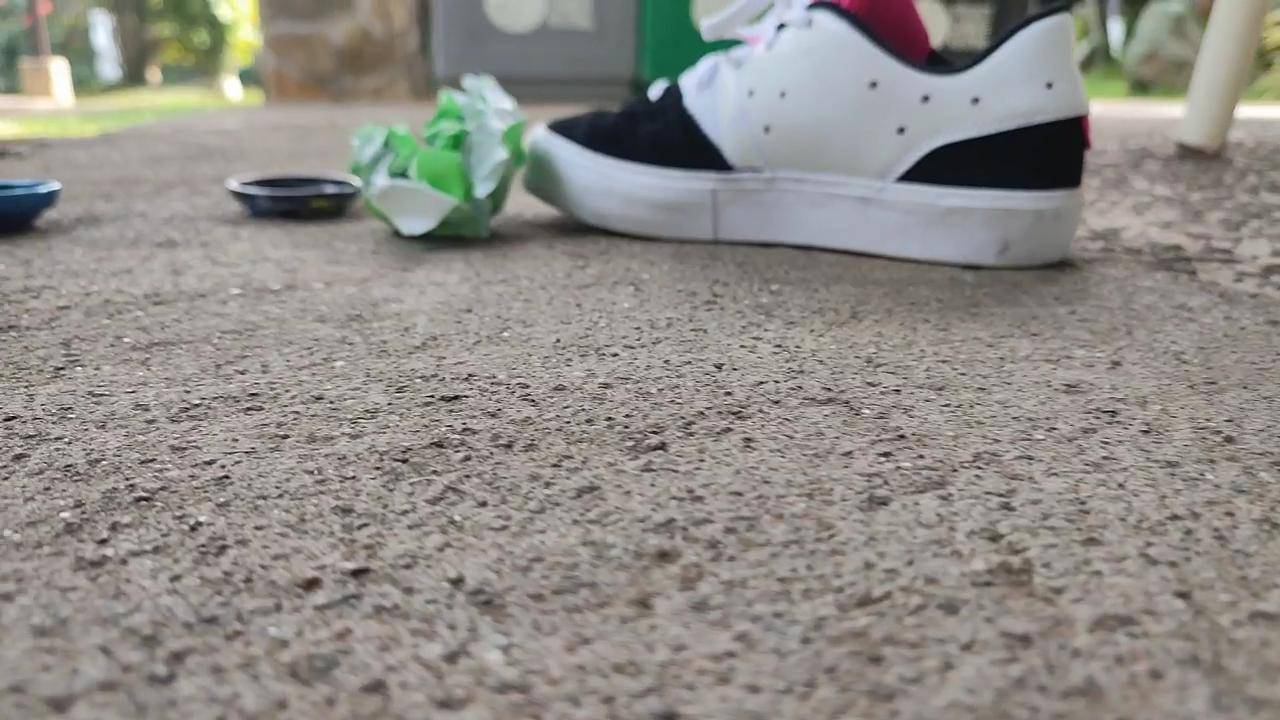Paper: (337, 59, 532, 252)
